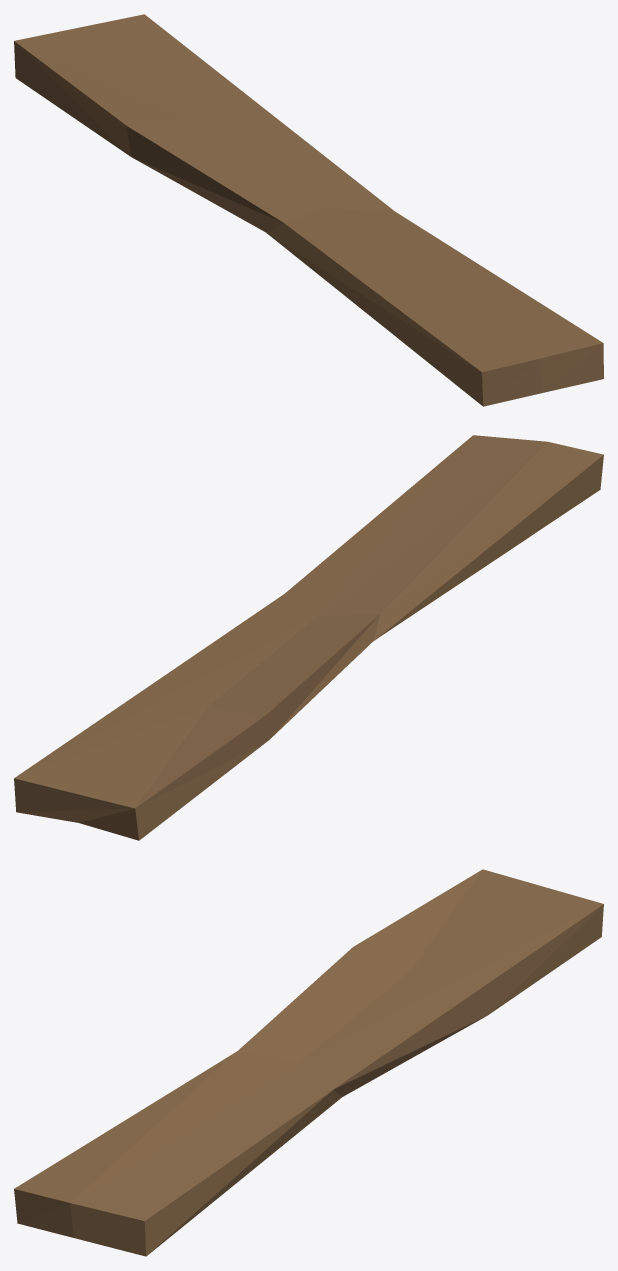
File: Desk_01.fbx
The picture shows the model from 3 angles, top to bottom: view 1: azimuth 30°, elevation 25°; view 2: azimuth 150°, elevation 25°; view 3: azimuth 330°, elevation 25°; orthographic projection. The views are drawn at different scales.
Visible parts, largest first — view 1: Desk_01; view 2: Desk_01; view 3: Desk_01.
Boxes of the visible parts, left/top/right/bottom form: Desk_01: left=14, top=14, right=603, bottom=406; Desk_01: left=14, top=435, right=603, bottom=840; Desk_01: left=14, top=869, right=603, bottom=1256.
Size of the model in its own units: 0.4697 by 0.1768 by 2.8.
